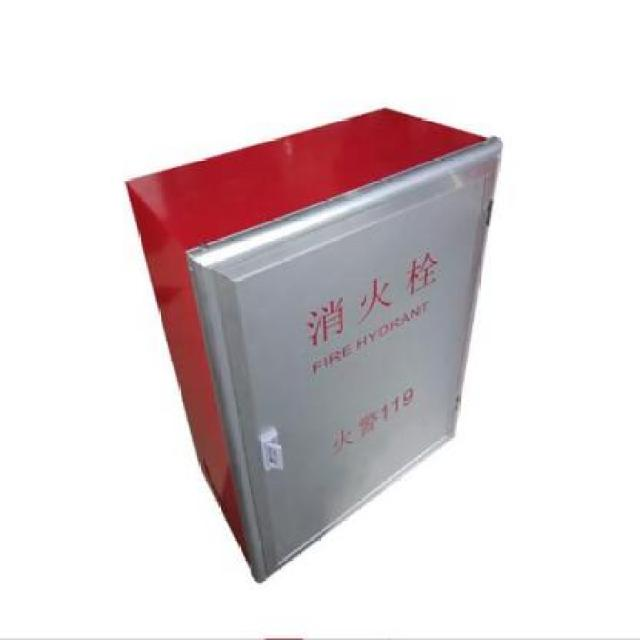firehydrant: (120, 102, 505, 588)
